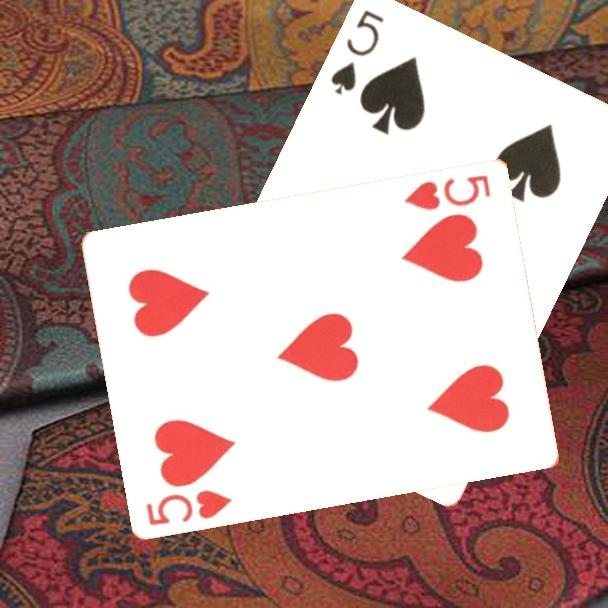h05: (142, 485, 235, 528), (401, 171, 494, 213)
s05: (327, 5, 387, 97)
